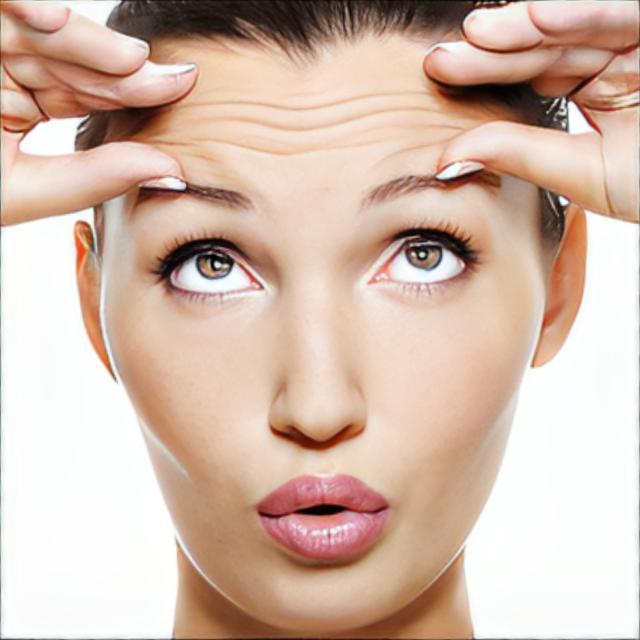surprise: (98, 28, 546, 634)
